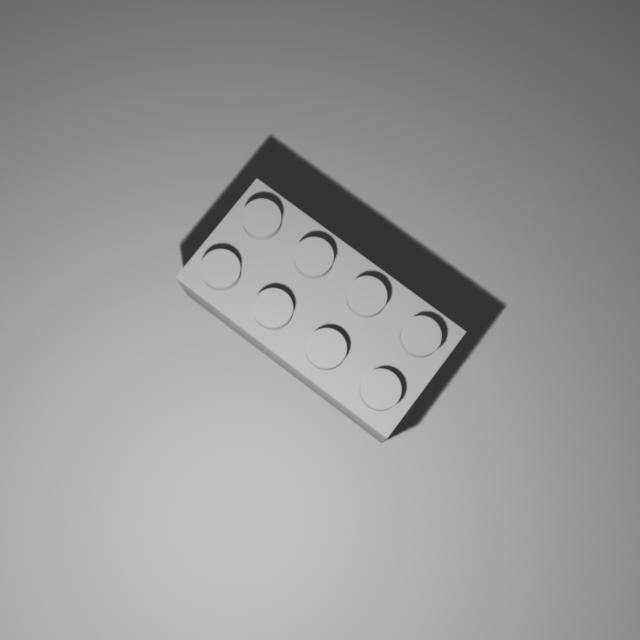lego_2x4: (173, 174, 468, 443)
